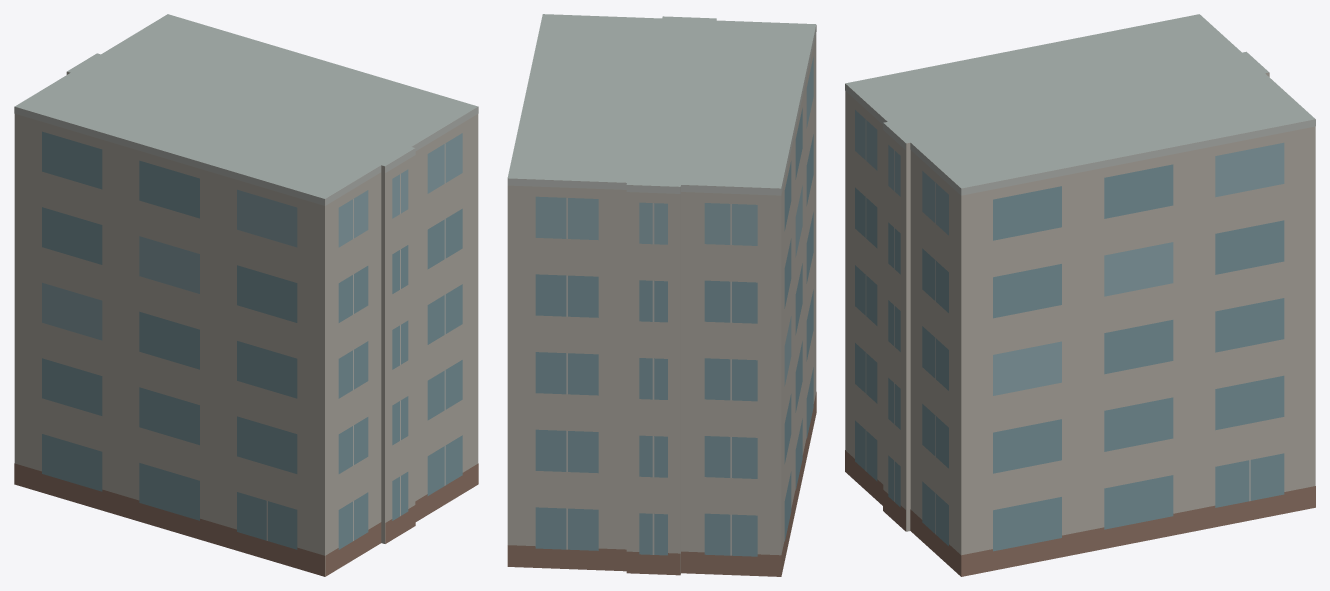
Rendered from survey-upis-32540495.glb.
The picture shows the model from 3 angles, left to right: view 1: azimuth 30°, elevation 25°; view 2: azimuth 150°, elevation 25°; view 3: azimuth 270°, elevation 25°; orthographic projection. The views are drawn at different scales.
Parts seen in each view (by area): view 1: survey-upis-32540495.tmp; view 2: survey-upis-32540495.tmp; view 3: survey-upis-32540495.tmp.
Boxes of the visible parts, box(x1,y1,x2,y2) form: survey-upis-32540495.tmp: box(14, 14, 478, 576); survey-upis-32540495.tmp: box(507, 14, 816, 576); survey-upis-32540495.tmp: box(845, 14, 1315, 576).
Bounding box in the file's own units: 12.78 × 13.25 × 14.56.
